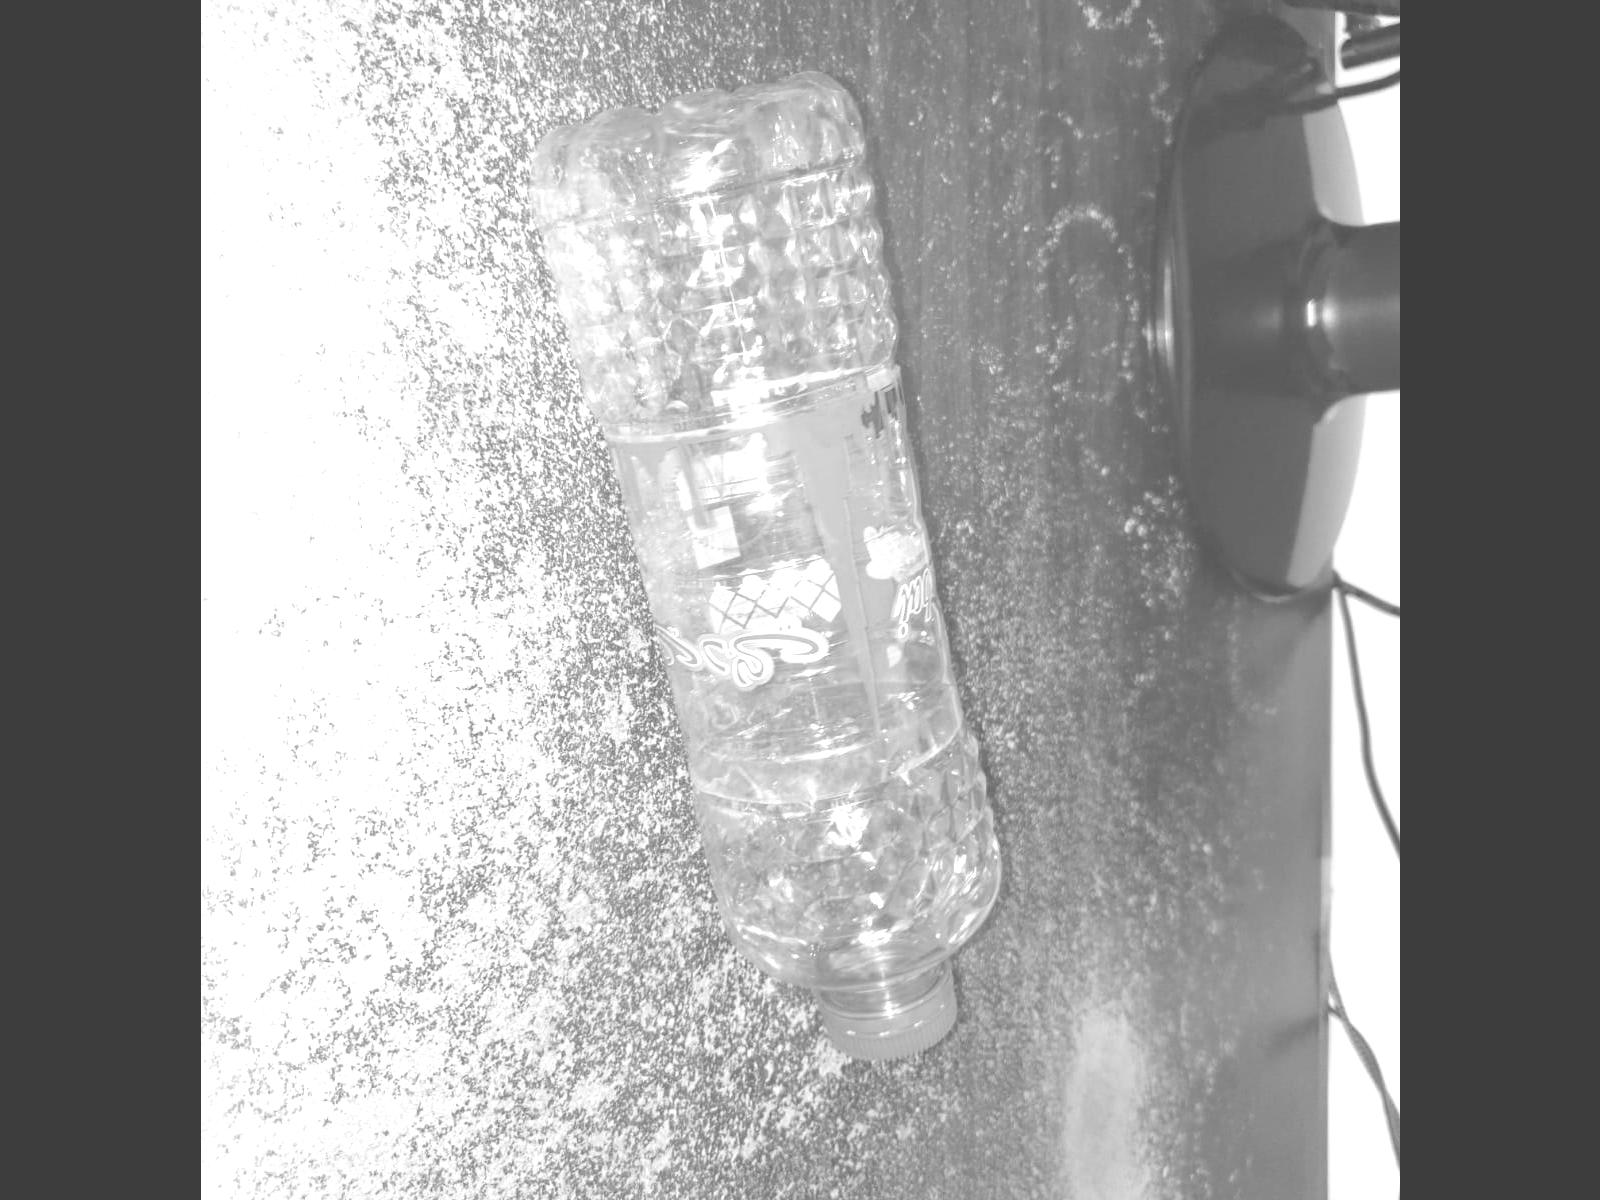bottle: (516, 53, 1012, 1080)
